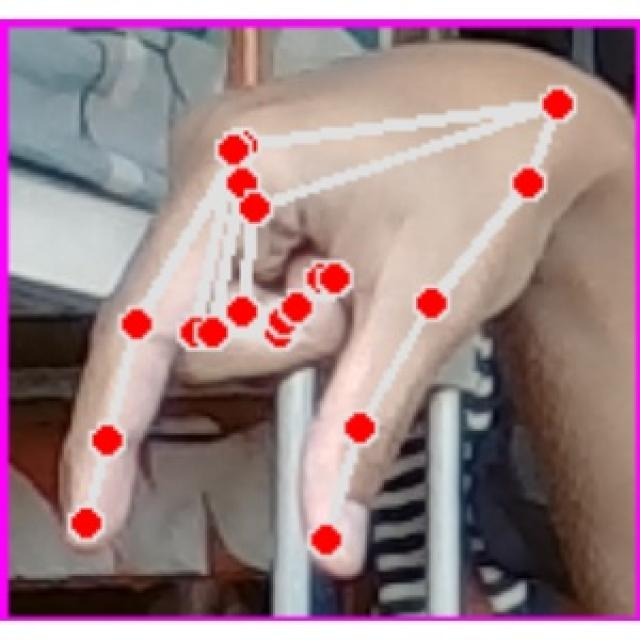Q: (53, 37, 626, 588)
